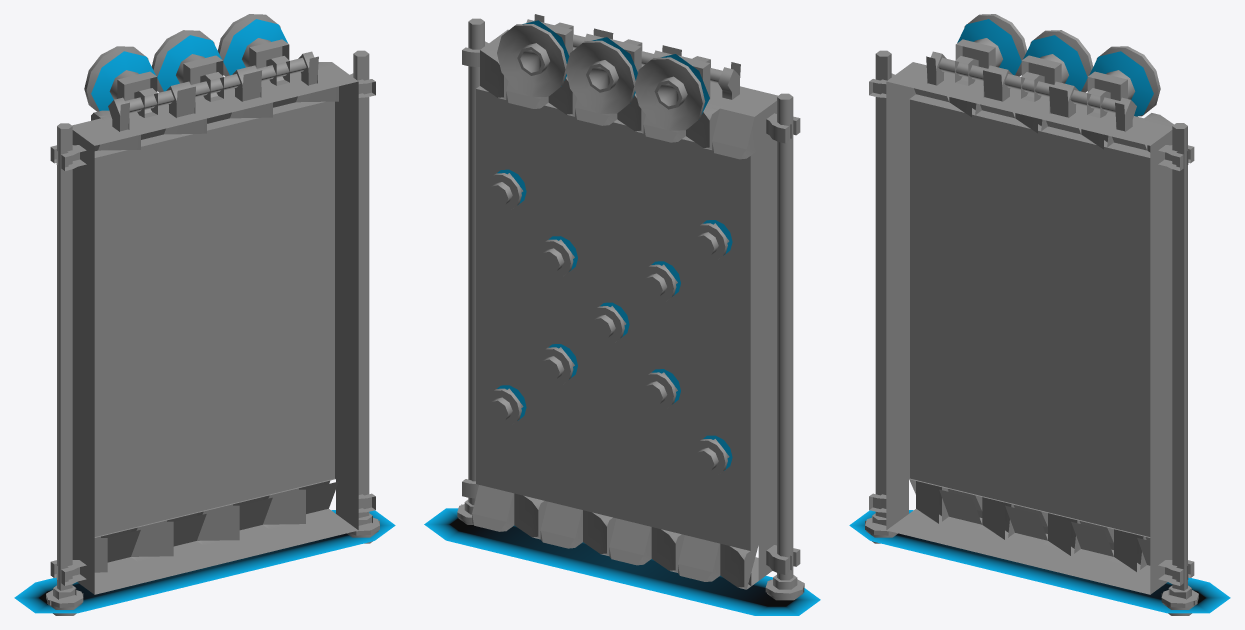
File: Standard_Barrier_High.fbx
3 views of the same model, side by side, from view 1: azimuth 30°, elevation 25°; view 2: azimuth 150°, elevation 25°; view 3: azimuth 330°, elevation 25° (orthographic). The views are drawn at different scales.
Parts seen in each view (by area): view 1: Barrier_High_LOD, Barrier_High, Barrier_High_Shadow; view 2: Barrier_High, Barrier_High_Shadow, Barrier_High_LOD; view 3: Barrier_High_LOD, Barrier_High, Barrier_High_Shadow.
Boxes of the visible parts, bbox=[...] form: Barrier_High_LOD: bbox=[50, 19, 379, 605]; Barrier_High: bbox=[46, 14, 379, 615]; Barrier_High_Shadow: bbox=[14, 510, 395, 613]; Barrier_High: bbox=[457, 18, 804, 600]; Barrier_High_Shadow: bbox=[424, 508, 820, 615]; Barrier_High_LOD: bbox=[461, 14, 804, 592]; Barrier_High_LOD: bbox=[865, 19, 1194, 605]; Barrier_High: bbox=[865, 14, 1198, 615]; Barrier_High_Shadow: bbox=[849, 510, 1230, 613].
Size of the model in its own units: 2.7 by 3.74 by 0.5644.
